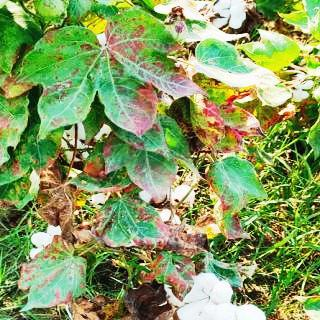blight: (15, 11, 212, 134), (96, 187, 223, 300), (11, 232, 102, 313), (188, 82, 266, 152), (0, 128, 63, 210)
